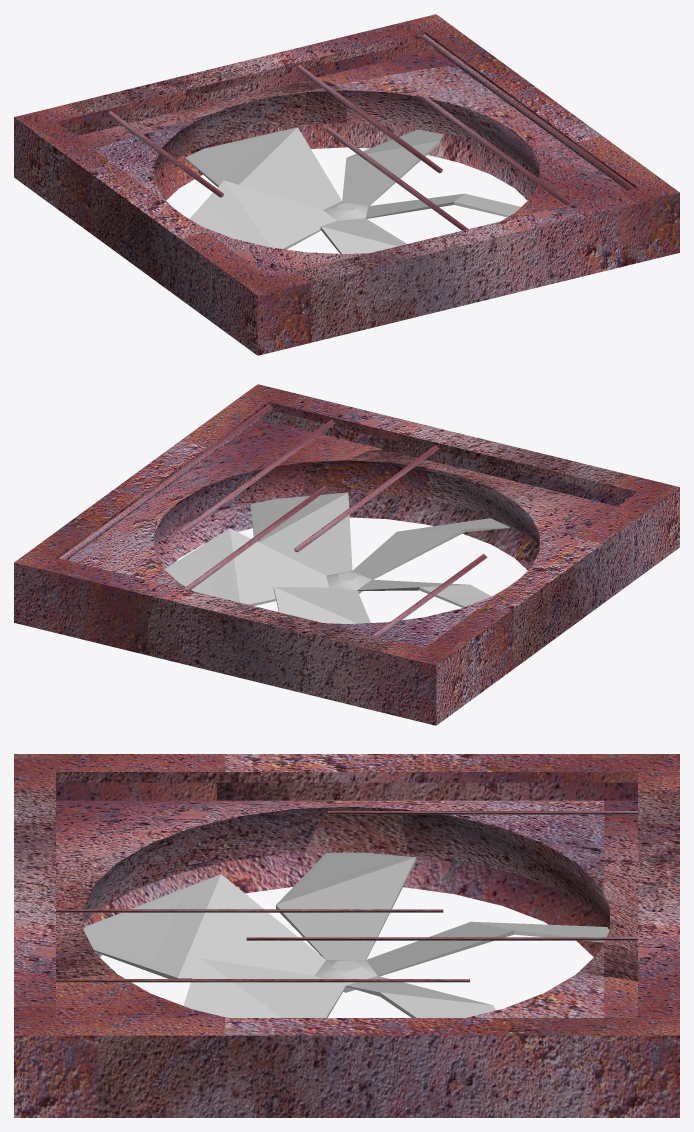
Rendered from AirVentFan.FBX.
The picture shows the model from 3 angles, top to bottom: view 1: azimuth 30°, elevation 25°; view 2: azimuth 150°, elevation 25°; view 3: azimuth 270°, elevation 25°; orthographic projection. The views are drawn at different scales.
Parts seen in each view (by area): view 1: Box001, Cylinder001, Cylinder002, Cylinder005, Cylinder008, Cylinder010, Cylinder003; view 2: Box001, Cylinder001, Cylinder002, Cylinder005, Cylinder010, Cylinder008, Cylinder003; view 3: Box001, Cylinder001, Cylinder005, Cylinder008, Cylinder010, Cylinder003.
Part boxes in pixels (x1,y1,x2,y2): Box001: [14, 14, 679, 355]; Cylinder001: [184, 127, 520, 253]; Cylinder002: [421, 34, 635, 189]; Cylinder005: [420, 94, 572, 205]; Cylinder008: [296, 64, 442, 173]; Cylinder010: [325, 127, 468, 230]; Cylinder003: [107, 111, 223, 197]; Box001: [14, 384, 679, 725]; Cylinder001: [165, 492, 509, 623]; Cylinder002: [58, 404, 272, 559]; Cylinder005: [180, 419, 335, 533]; Cylinder010: [294, 445, 439, 552]; Cylinder008: [184, 486, 327, 590]; Cylinder003: [373, 553, 487, 636]; Box001: [14, 754, 679, 1117]; Cylinder001: [83, 852, 609, 1017]; Cylinder005: [56, 979, 469, 982]; Cylinder008: [246, 937, 637, 940]; Cylinder010: [56, 909, 443, 912]; Cylinder003: [328, 811, 637, 814].
Size of the model in its own units: 561 by 94.41 by 561.
